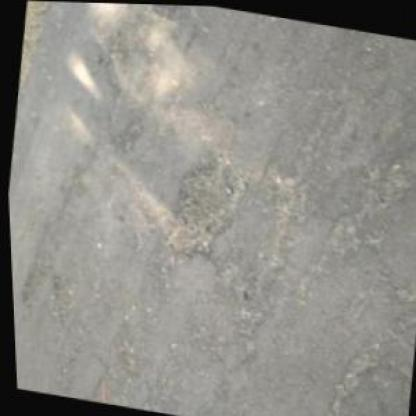pothole: (153, 134, 255, 270)
